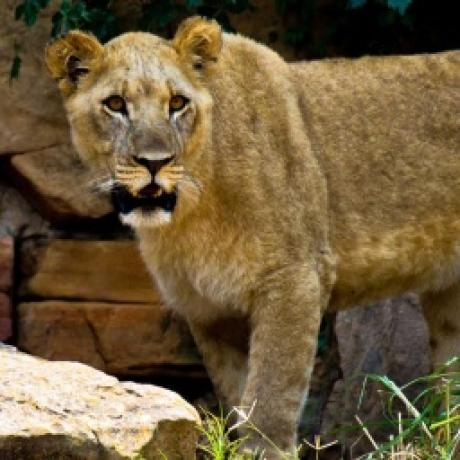Lion: (43, 14, 460, 460)
